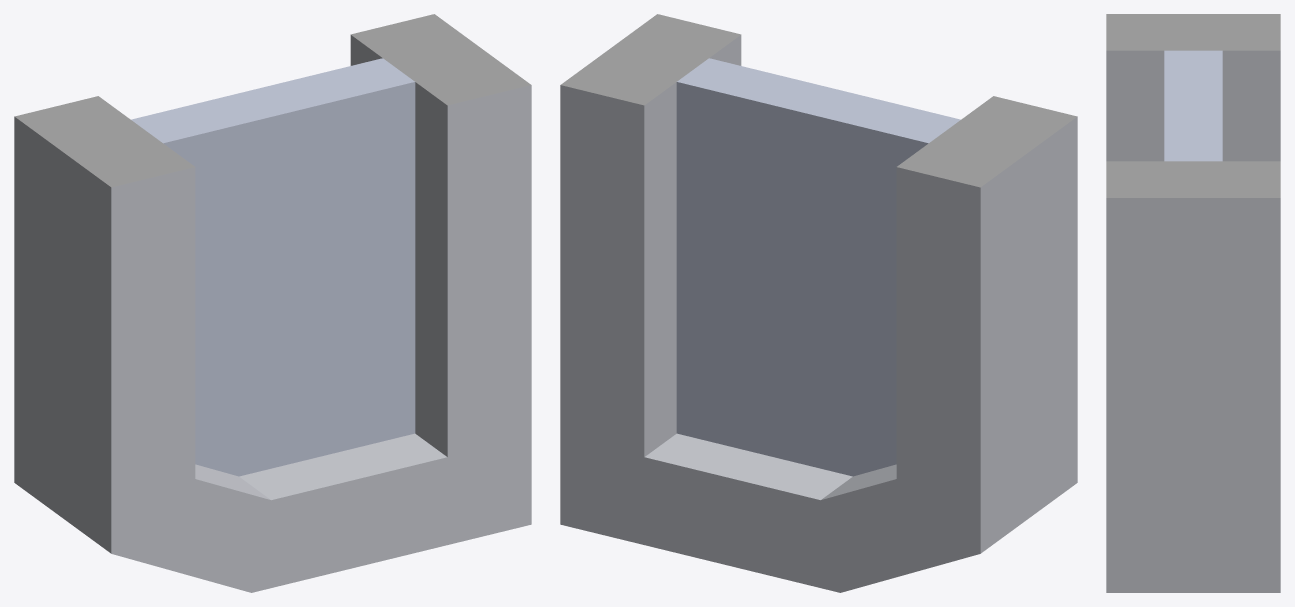
The model's file is Clip_B.fbx.
3 renders of one model, left to right at view 1: azimuth 30°, elevation 25°; view 2: azimuth 150°, elevation 25°; view 3: azimuth 270°, elevation 25°, orthographic. The views are drawn at different scales.
Parts seen in each view (by area): view 1: polySurface350; view 2: polySurface350; view 3: polySurface350.
Boxes of the visible parts, left/top/right/bottom form: polySurface350: left=14, top=14, right=531, bottom=592; polySurface350: left=560, top=14, right=1077, bottom=592; polySurface350: left=1106, top=14, right=1280, bottom=592.
Bounding box in the file's own units: 15 × 15 × 6.
